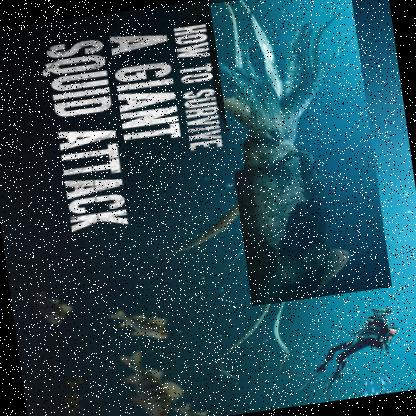colossal_squid: (208, 0, 392, 307)
